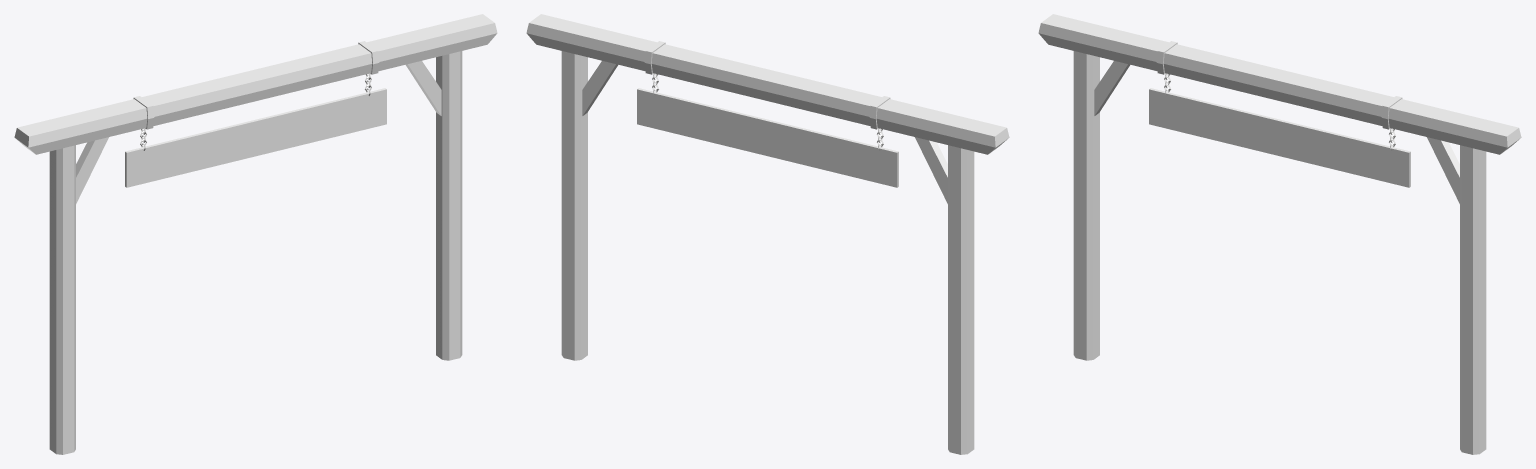
Rendered from Bld_Farm_Gate_Sign_01.glb.
3 views of the same model, side by side, from view 1: azimuth 30°, elevation 25°; view 2: azimuth 150°, elevation 25°; view 3: azimuth 330°, elevation 25° (orthographic).
Parts seen in each view (by area): view 1: Bld_Farm_Gate_Sign_01; view 2: Bld_Farm_Gate_Sign_01; view 3: Bld_Farm_Gate_Sign_01.
Boxes of the visible parts, left/top/right/bottom form: Bld_Farm_Gate_Sign_01: left=14, top=14, right=497, bottom=454; Bld_Farm_Gate_Sign_01: left=526, top=14, right=1009, bottom=454; Bld_Farm_Gate_Sign_01: left=1038, top=14, right=1521, bottom=454.
Size of the model in its own units: 8.27 by 5.53 by 0.4733.
1 material, 1 textured.
